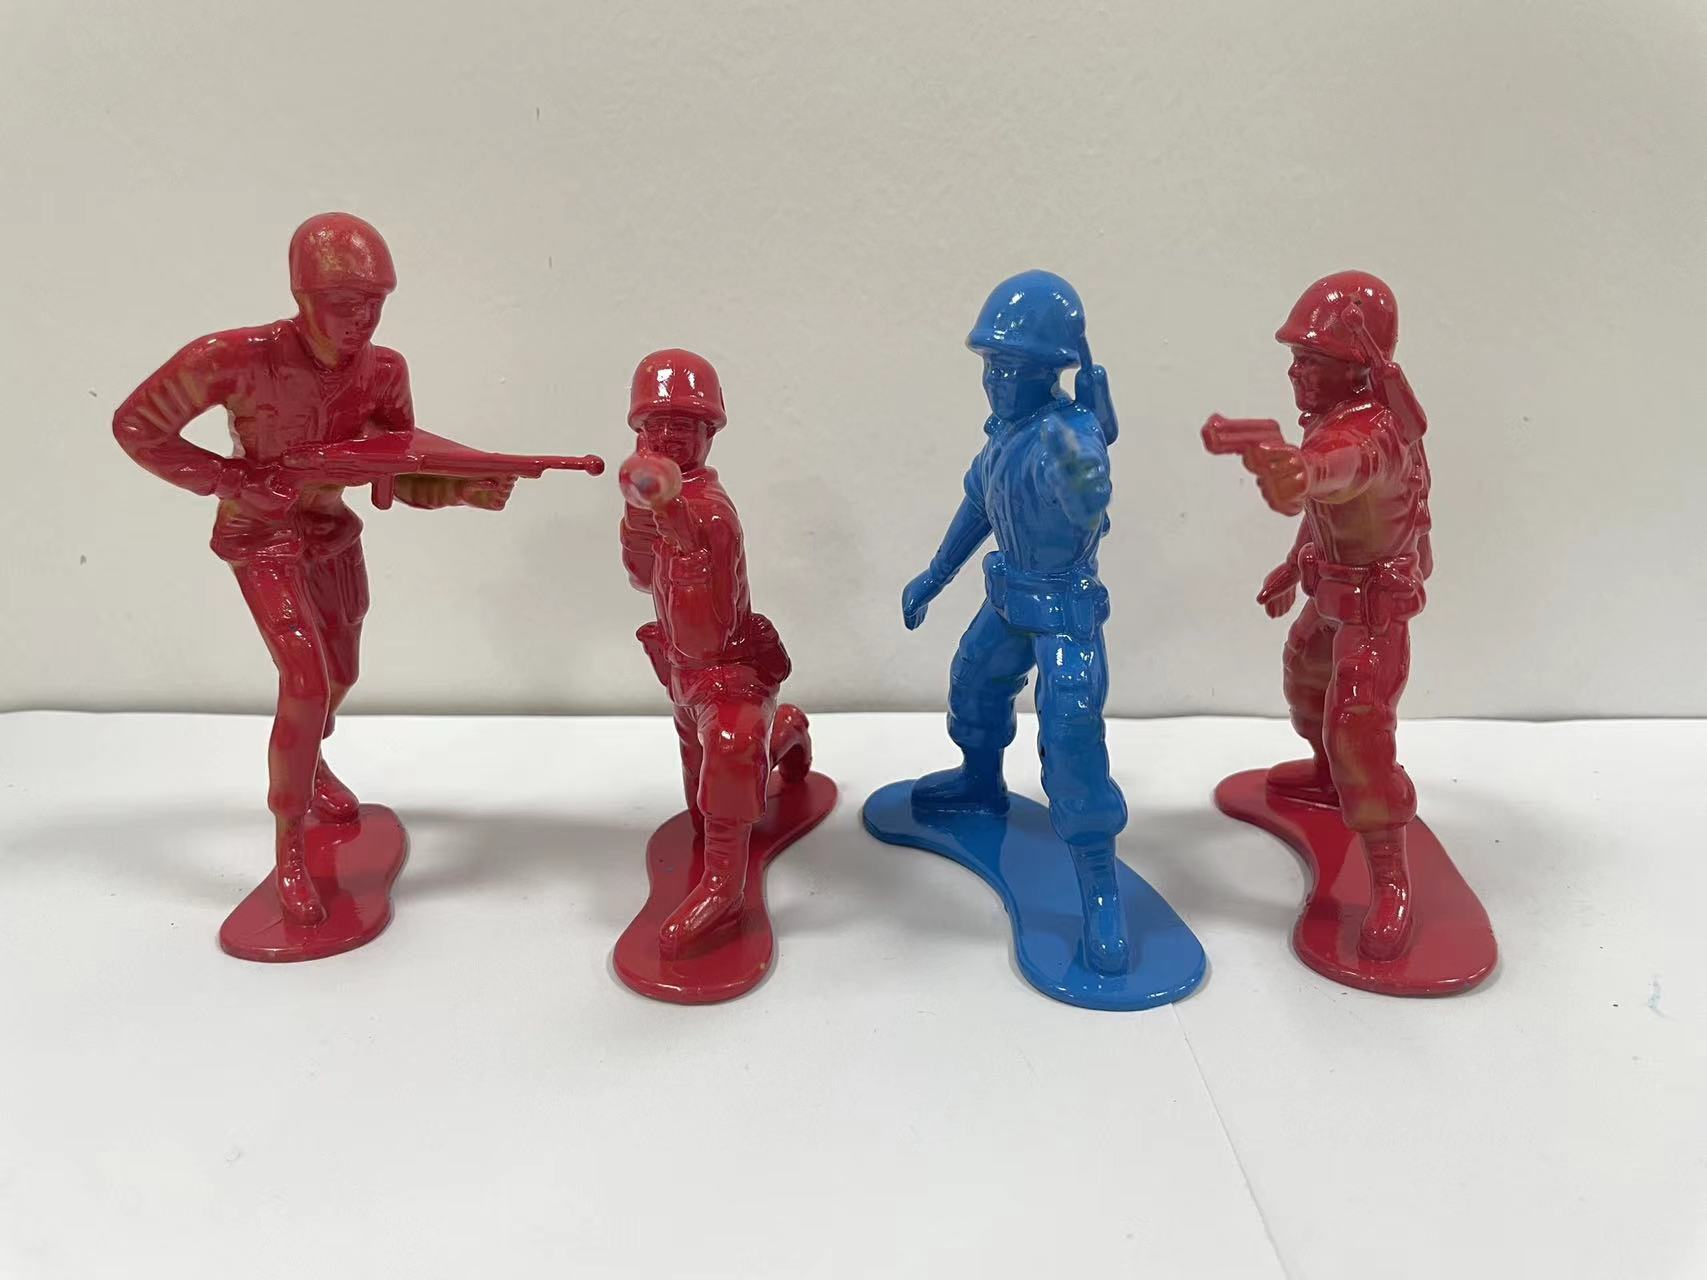blue: (871, 250, 1188, 1023)
red: (91, 223, 556, 999), (1196, 230, 1589, 1033), (577, 331, 859, 1026)
